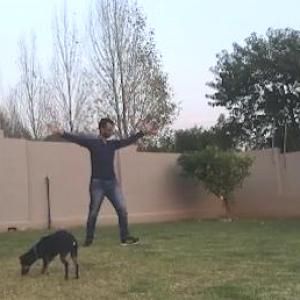takeoff: (21, 112, 150, 258)
